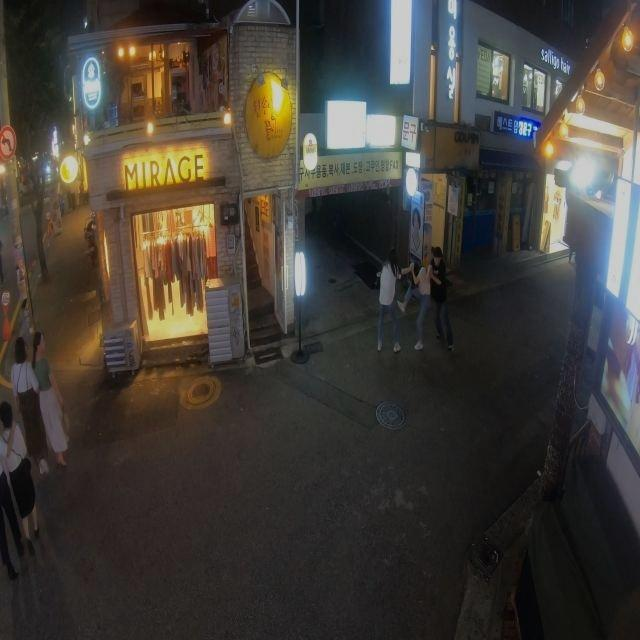fight: (374, 241, 450, 356)
